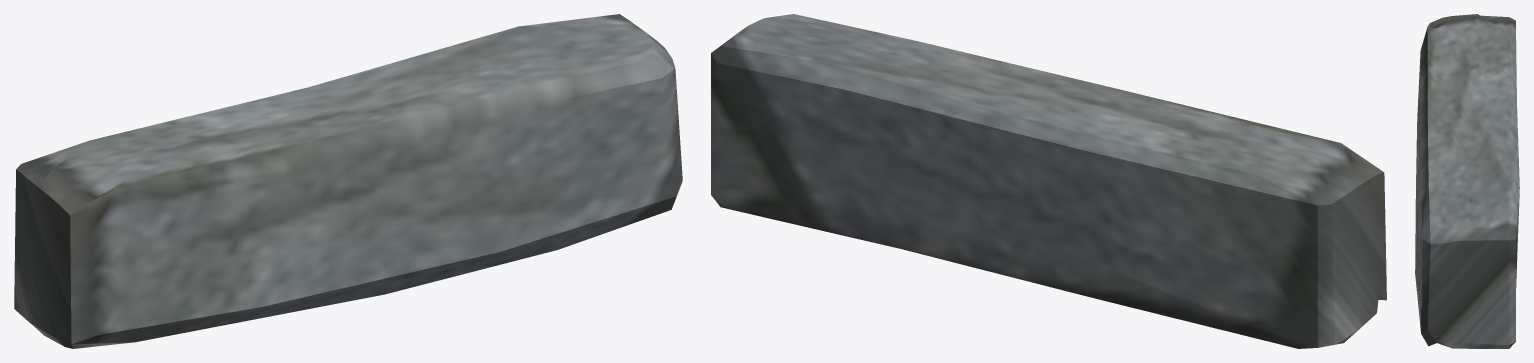
Rendered from stoneA.obj.
3 renders of one model, left to right at view 1: azimuth 30°, elevation 25°; view 2: azimuth 150°, elevation 25°; view 3: azimuth 270°, elevation 25°, orthographic. The views are drawn at different scales.
Visible parts, largest first — view 1: StoneA1; view 2: StoneA1; view 3: StoneA1.
Boxes of the visible parts, left/top/right/bottom form: StoneA1: left=14, top=14, right=682, bottom=348; StoneA1: left=711, top=14, right=1386, bottom=348; StoneA1: left=1415, top=14, right=1519, bottom=348.
Size of the model in its own units: 1.98 by 0.5475 by 0.3888.
1 material, 1 textured.
